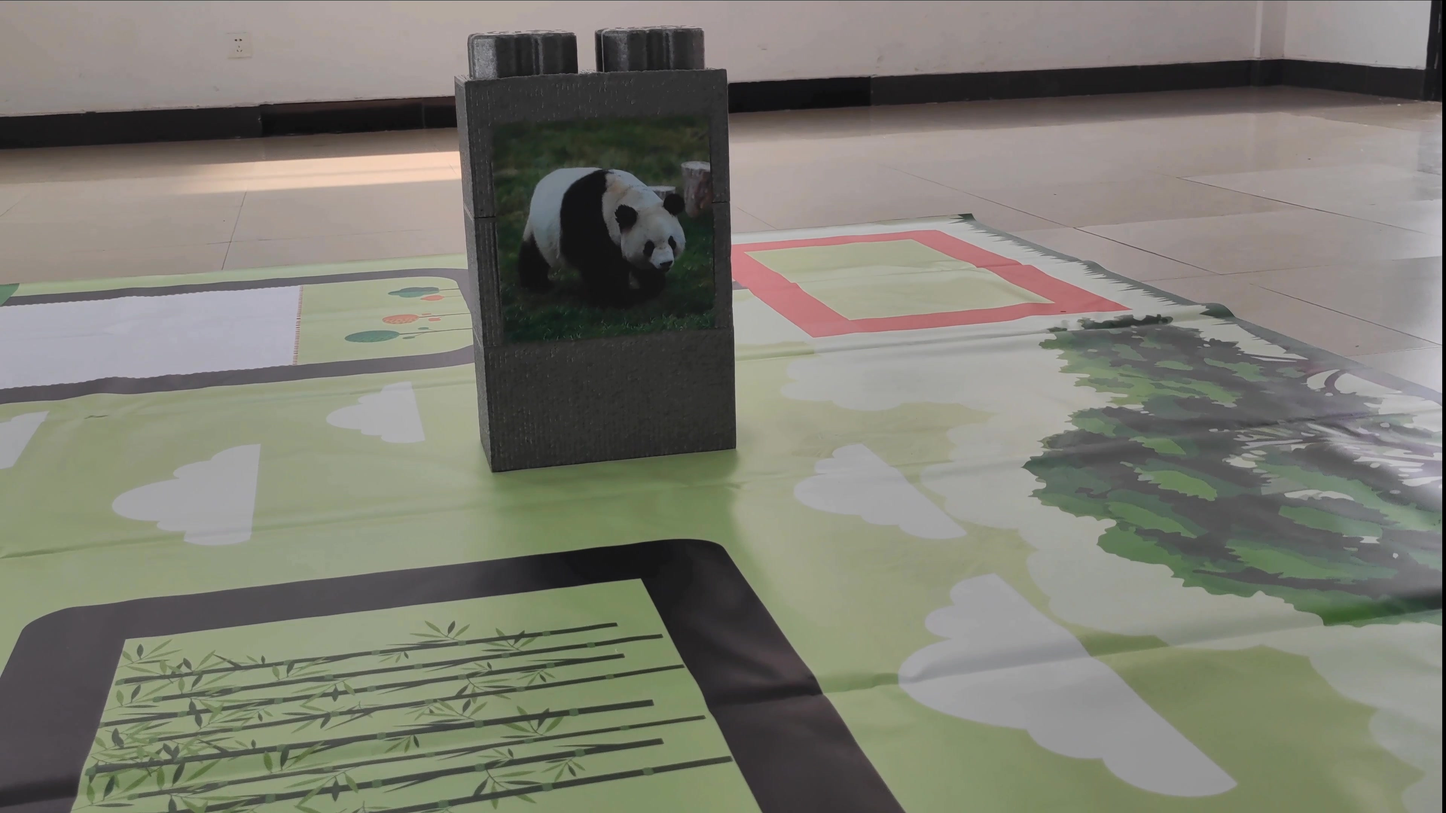panda: (500, 128, 702, 320)
